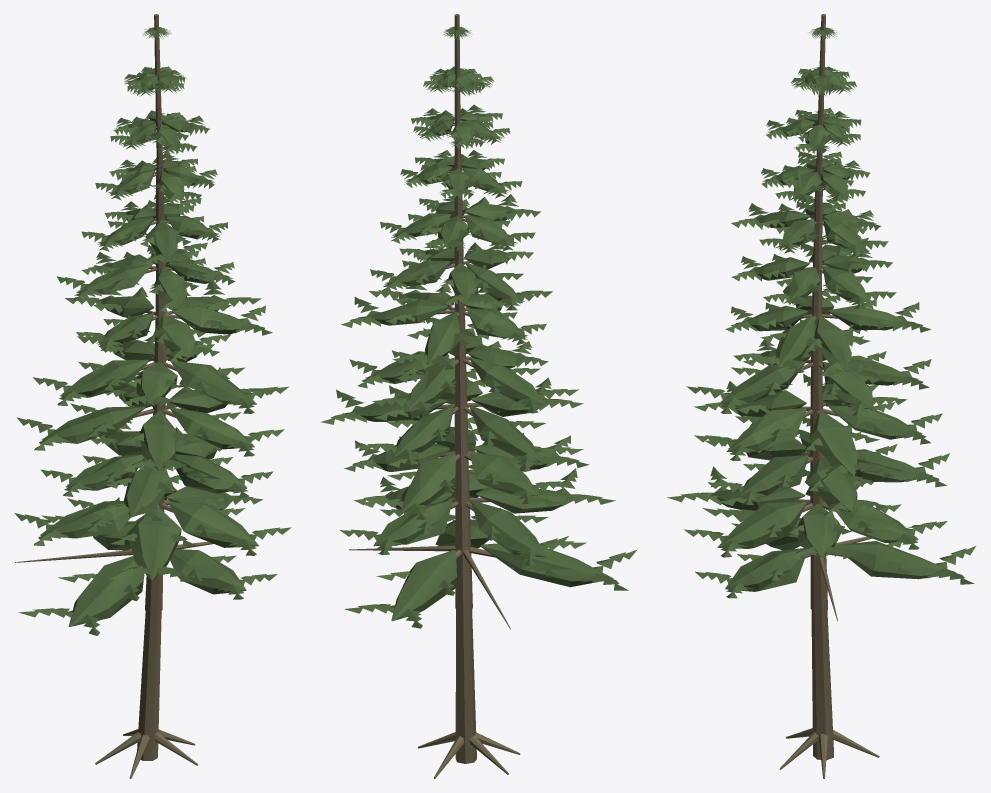
File: taiga-cedar.glb
3 renders of one model, left to right at view 1: azimuth 30°, elevation 25°; view 2: azimuth 150°, elevation 25°; view 3: azimuth 270°, elevation 25°, orthographic.
Parts seen in each view (by area): view 1: Кедровая сосна · Pinus sibirica; view 2: Кедровая сосна · Pinus sibirica; view 3: Кедровая сосна · Pinus sibirica.
Part boxes in pixels (x1,y1,x2,y2): Кедровая сосна · Pinus sibirica: (14,14,291,778); Кедровая сосна · Pinus sibirica: (320,14,637,778); Кедровая сосна · Pinus sibirica: (667,14,975,778).
Size of the model in its own units: 10.17 by 26.02 by 9.81.
